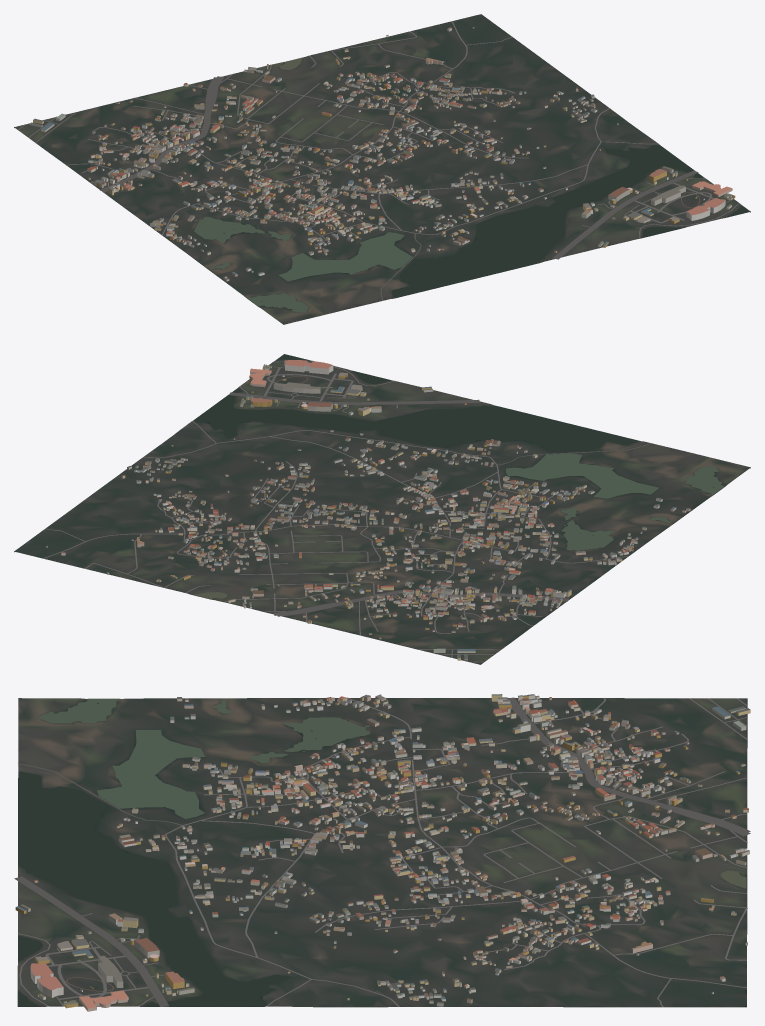
3 views of the same model, one above another, from view 1: azimuth 30°, elevation 25°; view 2: azimuth 150°, elevation 25°; view 3: azimuth 270°, elevation 25° (orthographic). The views are drawn at different scales.
Parts seen in each view (by area): view 1: ground, buildings, water, roads; view 2: ground, buildings, water, roads; view 3: ground, buildings, water, roads.
Boxes of the visible parts, x1=… form: ground: x1=14, y1=14, x2=750, y2=324; buildings: x1=29, y1=27, x2=735, y2=281; water: x1=194, y1=57, x2=749, y2=312; roads: x1=17, y1=21, x2=739, y2=300; ground: x1=14, y1=359, x2=750, y2=664; buildings: x1=46, y1=360, x2=690, y2=660; water: x1=193, y1=354, x2=724, y2=598; roads: x1=43, y1=361, x2=651, y2=662; ground: x1=17, y1=698, x2=747, y2=1007; buildings: x1=15, y1=694, x2=750, y2=1011; water: x1=18, y1=698, x2=746, y2=1006; roads: x1=14, y1=697, x2=750, y2=1006.
Bounding box in the file's own units: 1424 × 21.35 × 1417.
